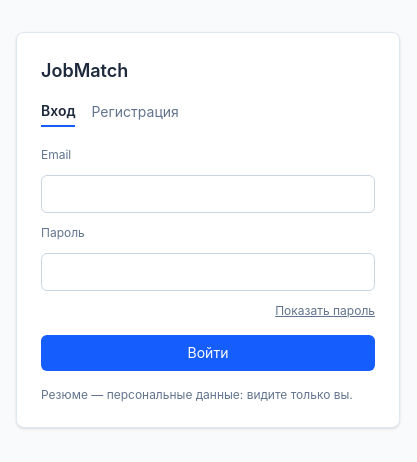
Test: вход и регистрация › не отправляет запрос при некорректном email
Type "not-an-email" into the field labelled "Email" at (208, 194), box [41, 175, 375, 213]
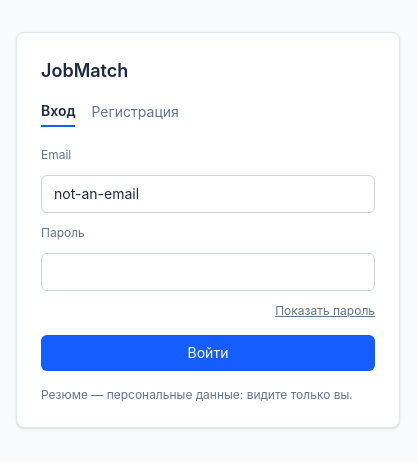
Type "whatever123" into the password field labelled "Пароль" at (208, 272), box [41, 253, 375, 291]
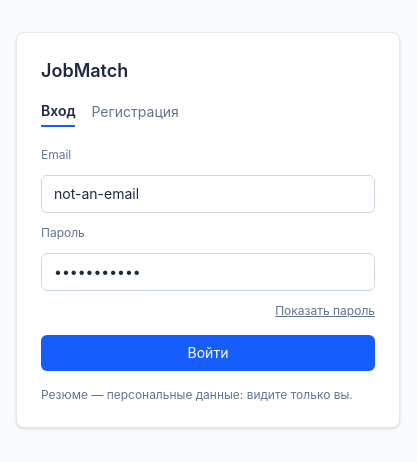
Click the button "Войти" at (208, 353), box [41, 335, 375, 371]
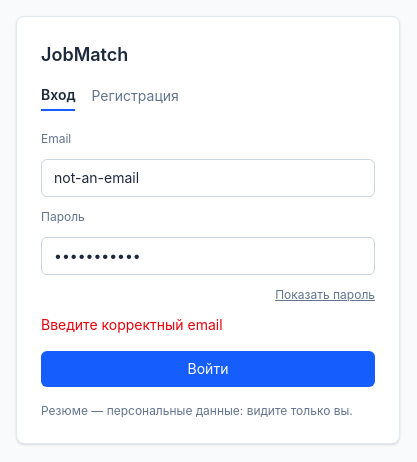
Now the message shows "корректный email", box [41, 316, 223, 333]
